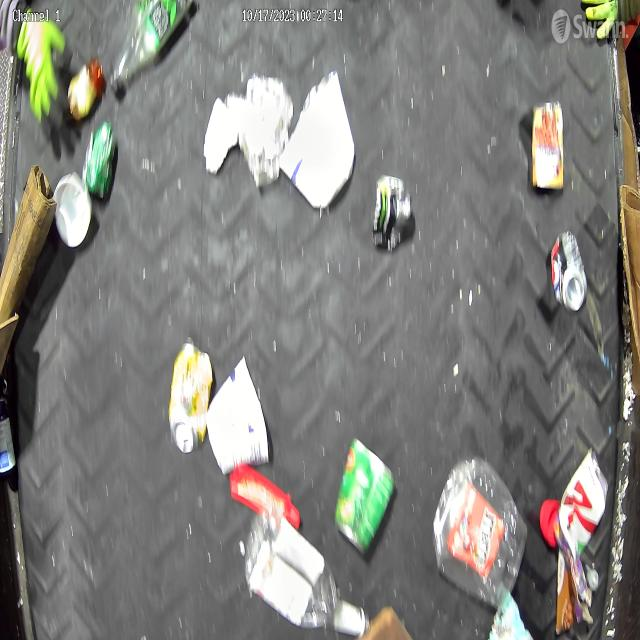can: (336, 440, 396, 554), (166, 339, 212, 455), (532, 100, 565, 194), (550, 230, 586, 316), (81, 122, 118, 200)
plastic_bottle: (239, 514, 371, 636), (109, 0, 194, 94)
